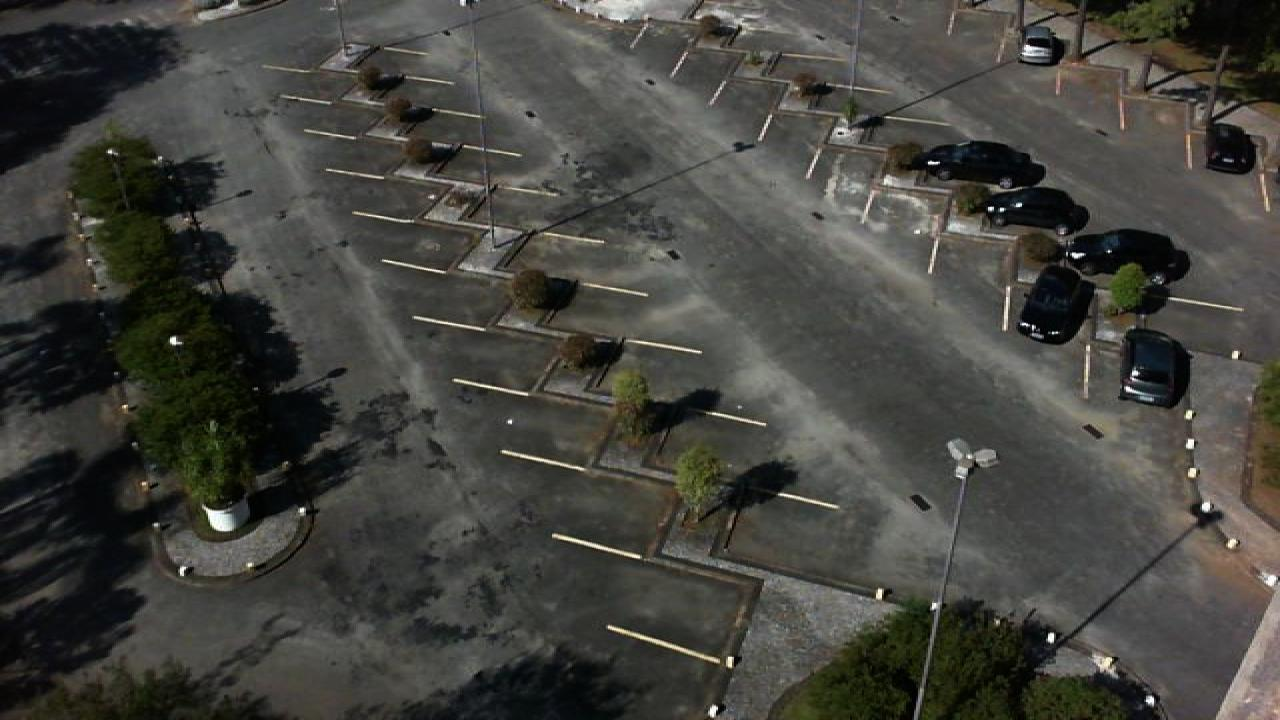Car: (1062, 227, 1192, 285), (908, 140, 1048, 187), (1016, 264, 1096, 344), (1118, 327, 1192, 408), (980, 186, 1090, 236), (1202, 121, 1258, 174), (1016, 25, 1064, 65)
